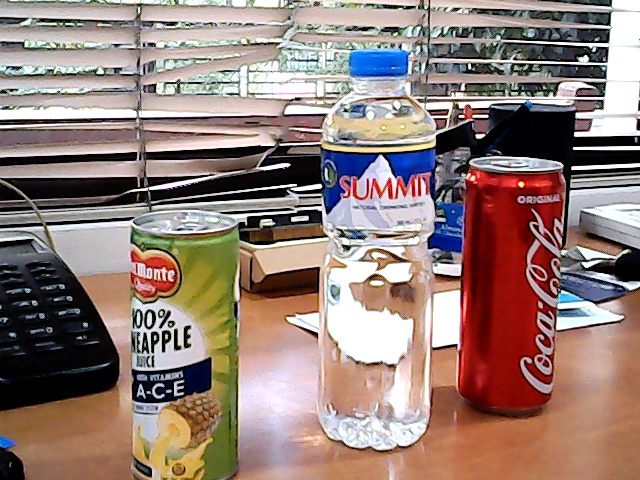Cola: (445, 147, 586, 427)
Pine Juice: (108, 202, 253, 480)
Summit Water: (294, 36, 447, 460)
